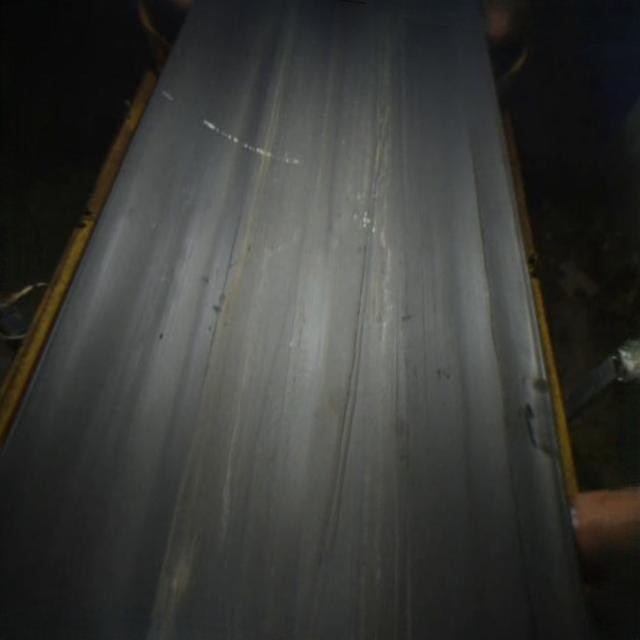Tear: (434, 120, 529, 617)
